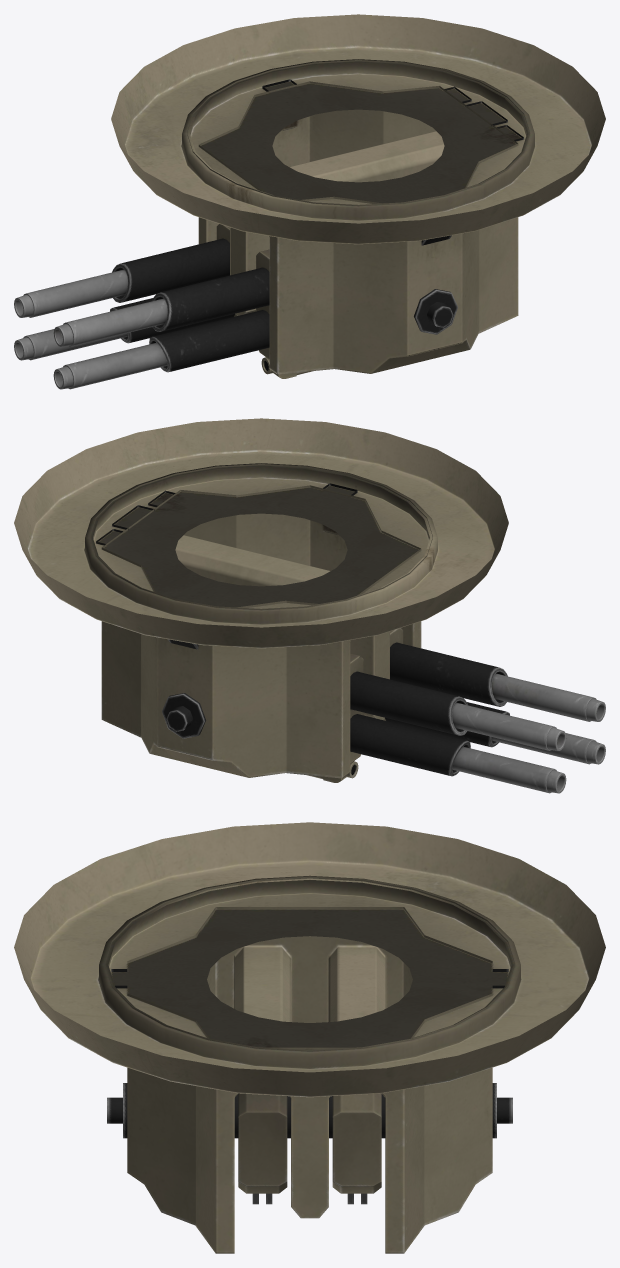
The model's file is turret.fbx.
3 renders of one model, top to bottom at view 1: azimuth 30°, elevation 25°; view 2: azimuth 150°, elevation 25°; view 3: azimuth 270°, elevation 25°, orthographic. The views are drawn at different scales.
Parts seen in each view (by area): view 1: Sci_Fi_AA_Turret_, Sci_Fi_AA_Turret_.001; view 2: Sci_Fi_AA_Turret_, Sci_Fi_AA_Turret_.001; view 3: Sci_Fi_AA_Turret_, Sci_Fi_AA_Turret_.001.
Boxes of the visible parts, bbox=[...] form: Sci_Fi_AA_Turret_: bbox=[14, 60, 529, 389]; Sci_Fi_AA_Turret_.001: bbox=[111, 14, 605, 244]; Sci_Fi_AA_Turret_: bbox=[90, 464, 605, 793]; Sci_Fi_AA_Turret_.001: bbox=[14, 418, 508, 648]; Sci_Fi_AA_Turret_: bbox=[105, 876, 514, 1253]; Sci_Fi_AA_Turret_.001: bbox=[14, 822, 605, 1097].
Size of the model in its own units: 82.07 by 102 by 39.72.
Materials: 1 (1 with a texture image).
